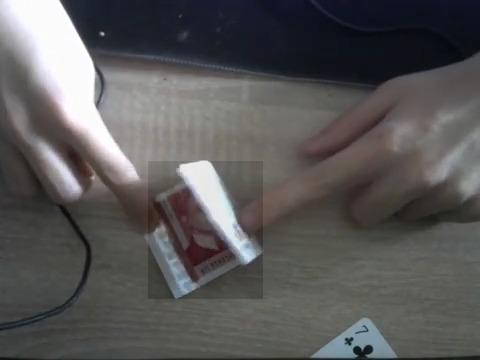5leva: (148, 161, 263, 299)
